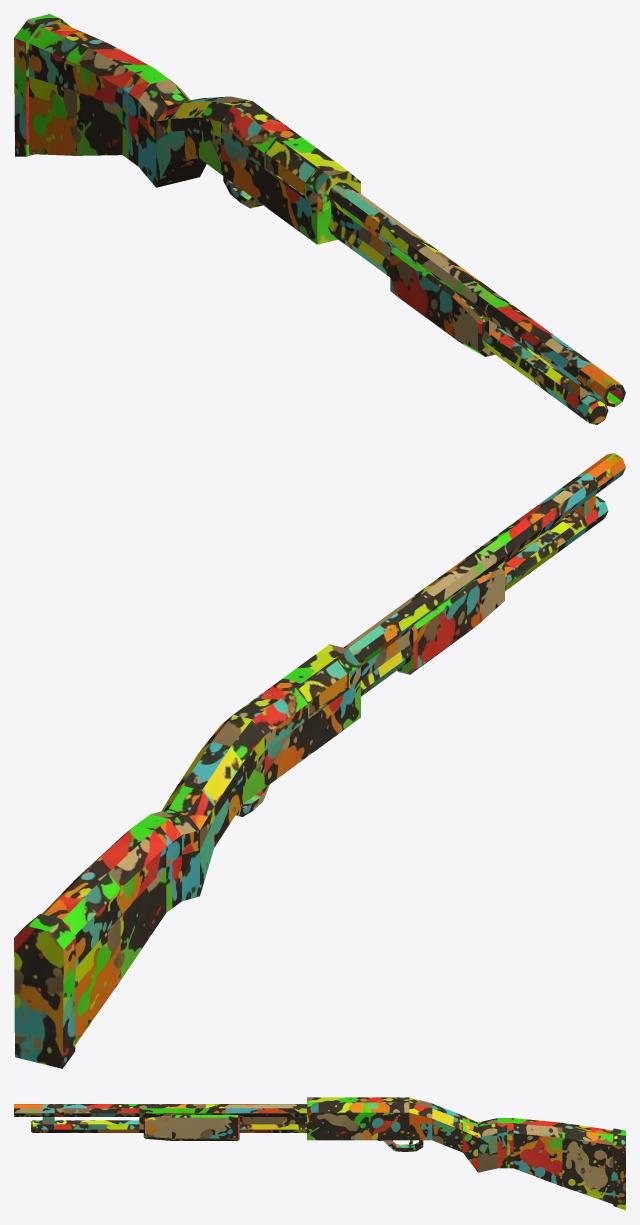
File: gun.glb
The picture shows the model from 3 angles, top to bottom: view 1: azimuth 30°, elevation 25°; view 2: azimuth 150°, elevation 25°; view 3: azimuth 270°, elevation 25°; orthographic projection. The views are drawn at different scales.
Visible parts, largest first — view 1: MS_Shotgun_Trigger_MT_Shotgun_0_0; view 2: MS_Shotgun_Trigger_MT_Shotgun_0_0; view 3: MS_Shotgun_Trigger_MT_Shotgun_0_0.
Part boxes in pixels (x1,y1,x2,y2): MS_Shotgun_Trigger_MT_Shotgun_0_0: (14, 14, 625, 424); MS_Shotgun_Trigger_MT_Shotgun_0_0: (14, 453, 625, 1068); MS_Shotgun_Trigger_MT_Shotgun_0_0: (14, 1097, 625, 1210).
Size of the model in its own units: 0.0737 by 0.2785 by 1.48.
1 material, 1 textured.
